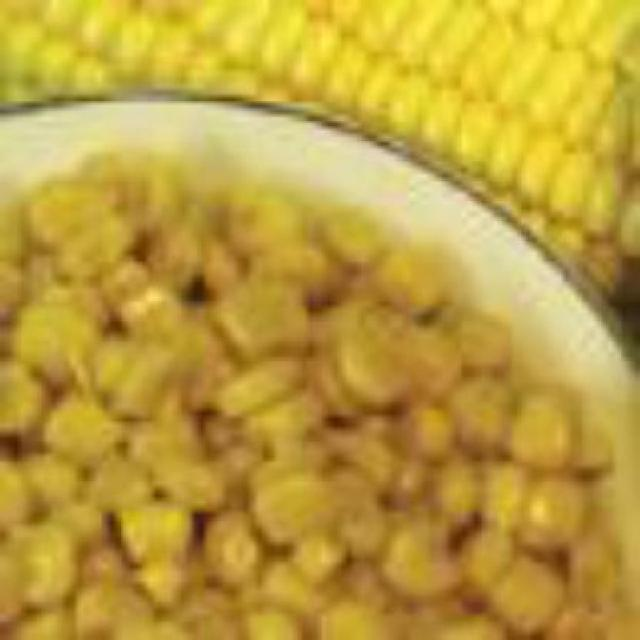Corn: (0, 140, 626, 622), (0, 0, 626, 300)
